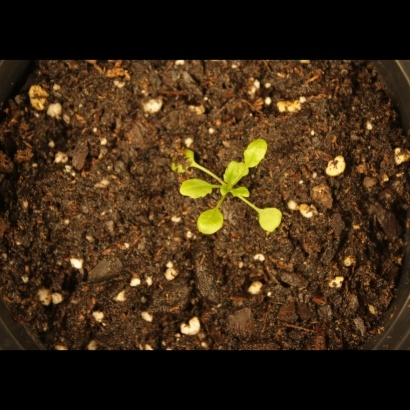leaf: (175, 174, 217, 206), (241, 133, 273, 173), (194, 206, 229, 241), (167, 141, 201, 175), (255, 206, 289, 236), (222, 156, 247, 188), (231, 186, 254, 209)
